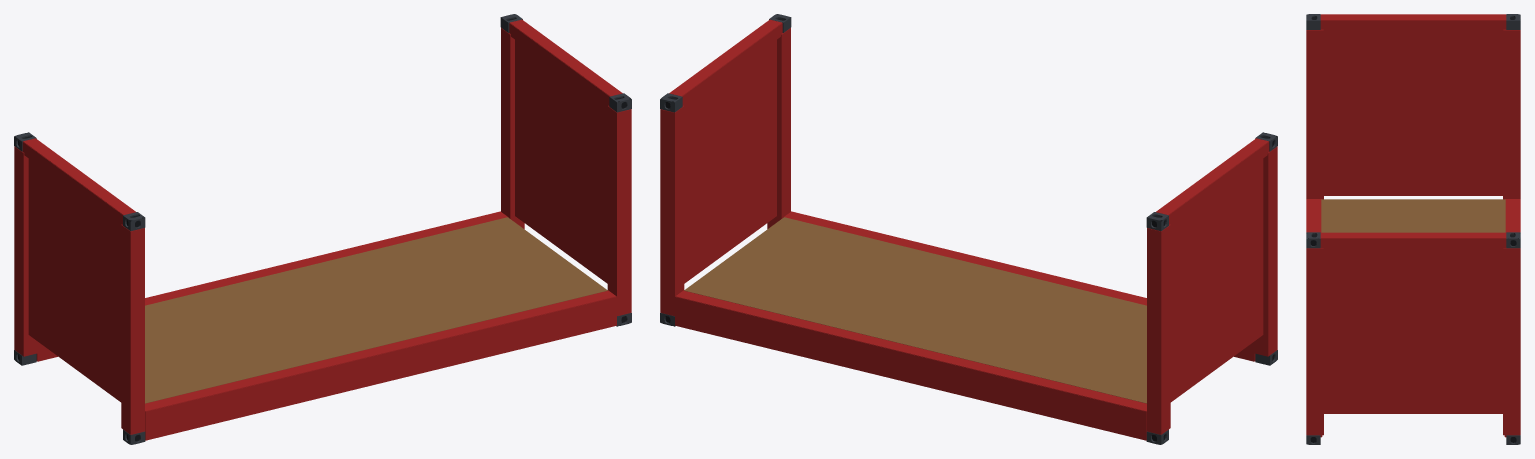
File: iso_20ft_fr_22p3.obj
3 views of the same model, side by side, from view 1: azimuth 30°, elevation 25°; view 2: azimuth 150°, elevation 25°; view 3: azimuth 270°, elevation 25° (orthographic). The views are drawn at different scales.
Parts seen in each view (by area): view 1: 02_FlatRack_Heavy_Girders, 03_Marine_Wood_Floor, 01_ISO_Corner_Castings_Hollow3D; view 2: 02_FlatRack_Heavy_Girders, 03_Marine_Wood_Floor, 01_ISO_Corner_Castings_Hollow3D; view 3: 02_FlatRack_Heavy_Girders, 03_Marine_Wood_Floor, 01_ISO_Corner_Castings_Hollow3D, 01_ISO_Corner_Castings_Hollow3D_Cavity.
Part boxes in pixels (x1=…): 02_FlatRack_Heavy_Girders: x1=14, y1=19, x2=631, y2=440; 03_Marine_Wood_Floor: x1=145, y1=217, x2=607, y2=403; 01_ISO_Corner_Castings_Hollow3D: x1=14, y1=14, x2=631, y2=444; 02_FlatRack_Heavy_Girders: x1=660, y1=19, x2=1277, y2=440; 03_Marine_Wood_Floor: x1=684, y1=217, x2=1146, y2=403; 01_ISO_Corner_Castings_Hollow3D: x1=660, y1=14, x2=1277, y2=444; 02_FlatRack_Heavy_Girders: x1=1306, y1=14, x2=1520, y2=437; 03_Marine_Wood_Floor: x1=1321, y1=199, x2=1505, y2=232; 01_ISO_Corner_Castings_Hollow3D: x1=1306, y1=14, x2=1520, y2=444; 01_ISO_Corner_Castings_Hollow3D_Cavity: x1=1308, y1=17, x2=1518, y2=442.
Size of the model in its own units: 6.06 by 2.59 by 2.44.
